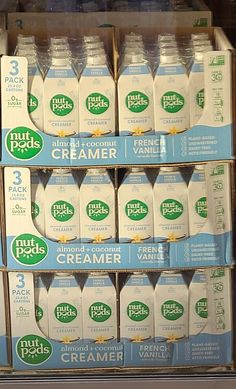milk: (79, 53, 114, 136), (118, 168, 152, 241), (154, 168, 188, 240), (82, 273, 116, 342), (45, 170, 78, 241), (155, 272, 188, 340)
